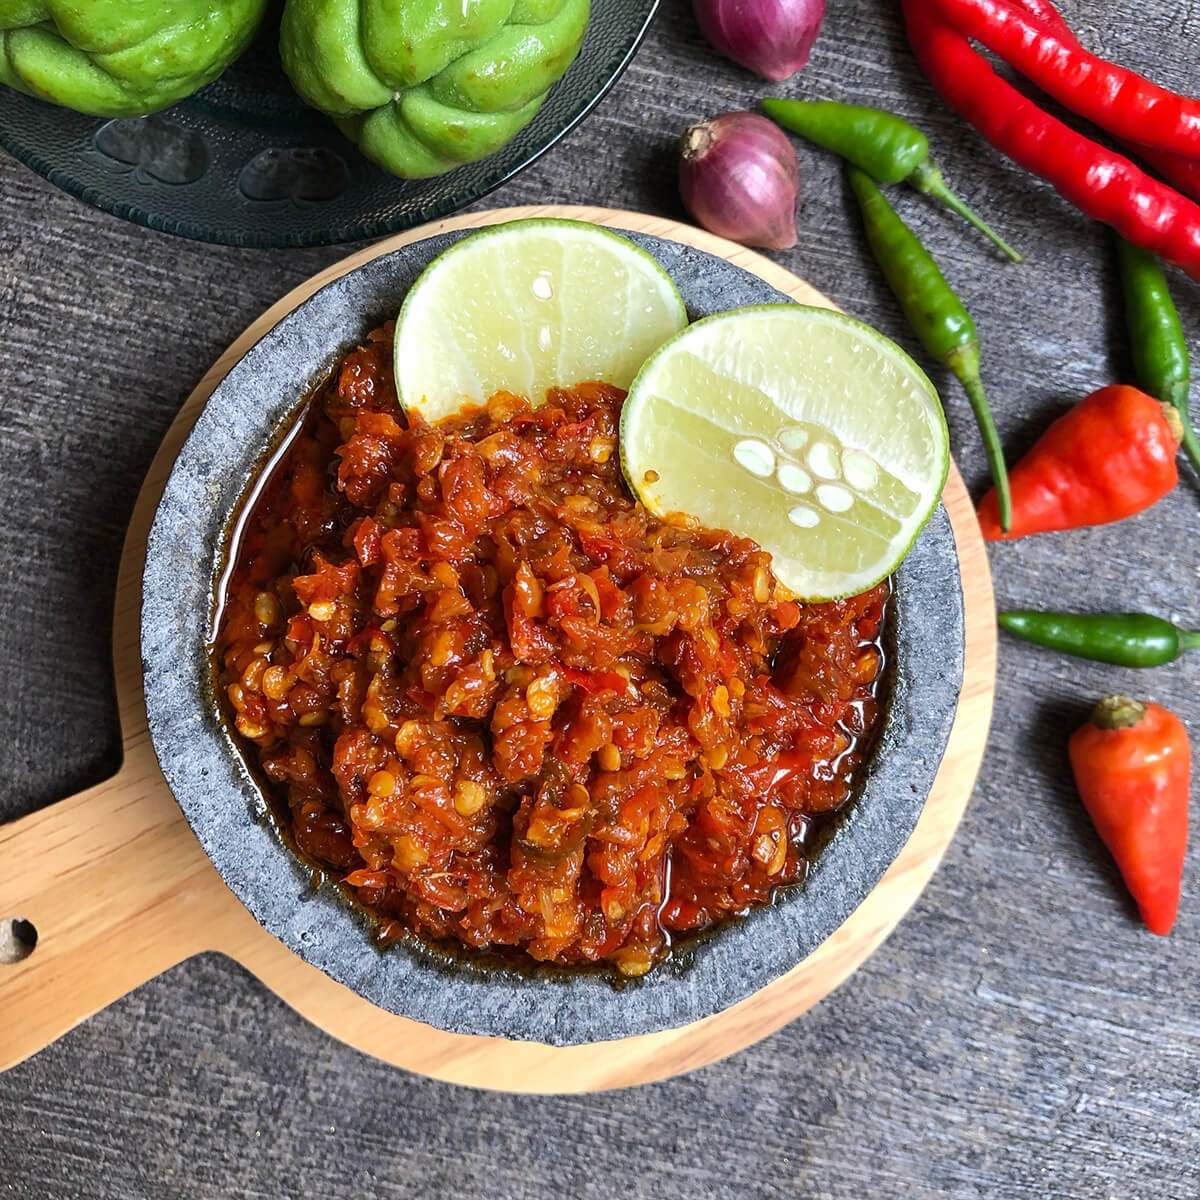sambal: (226, 357, 887, 959)
